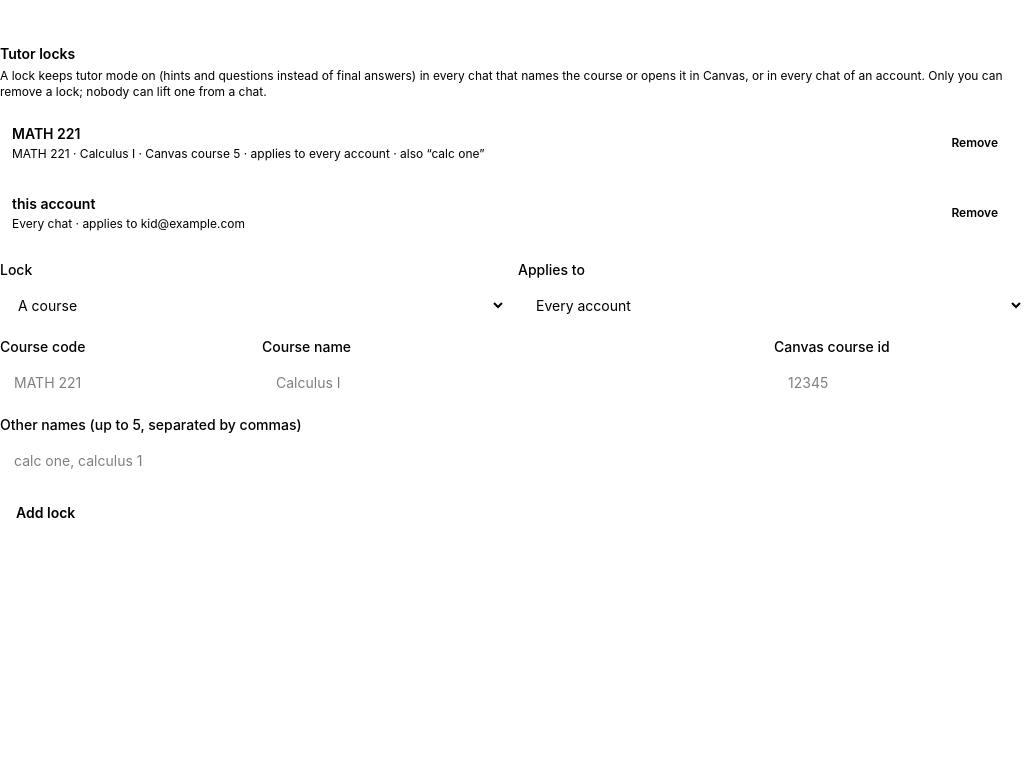
Test: TutorLocks › asks before removing a lock and removes only its own row
Click the button with aria-label "Remove the MATH 221 lock (every account)" at [975, 143], box left=937, top=125, right=1012, bottom=161
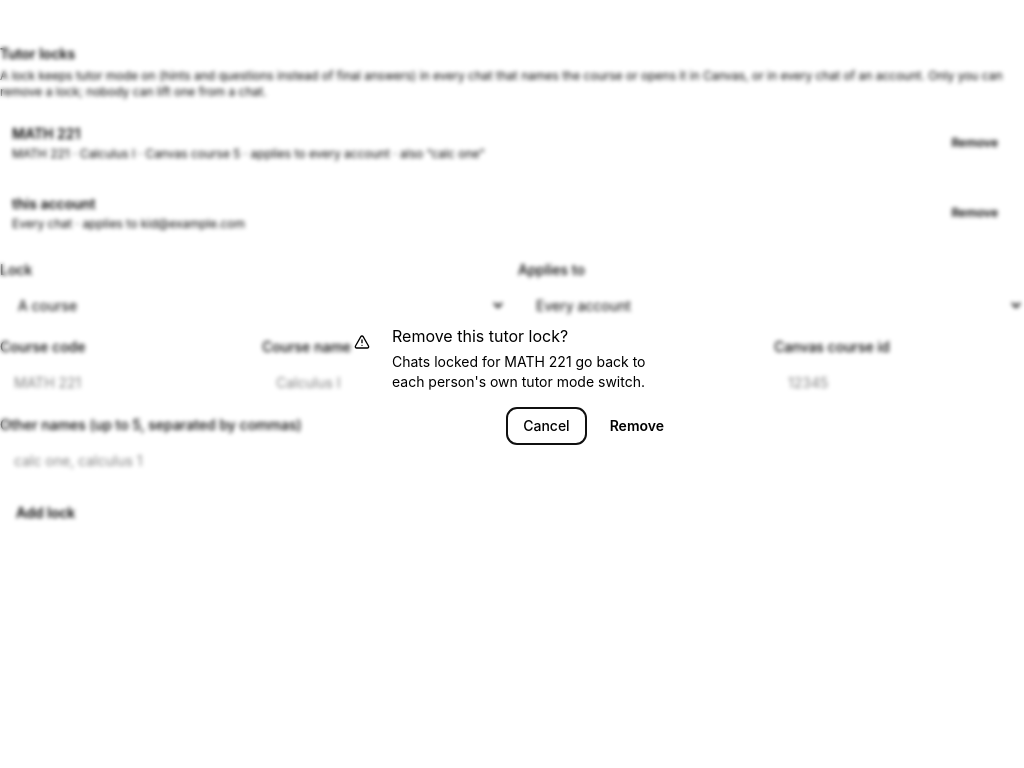
Result: the dialog shows "Chats locked for MATH 221 go back to each person's own tutor mode switch." at left=392, top=353, right=646, bottom=390
Click the button "Remove" at [637, 426], box left=594, top=408, right=680, bottom=444
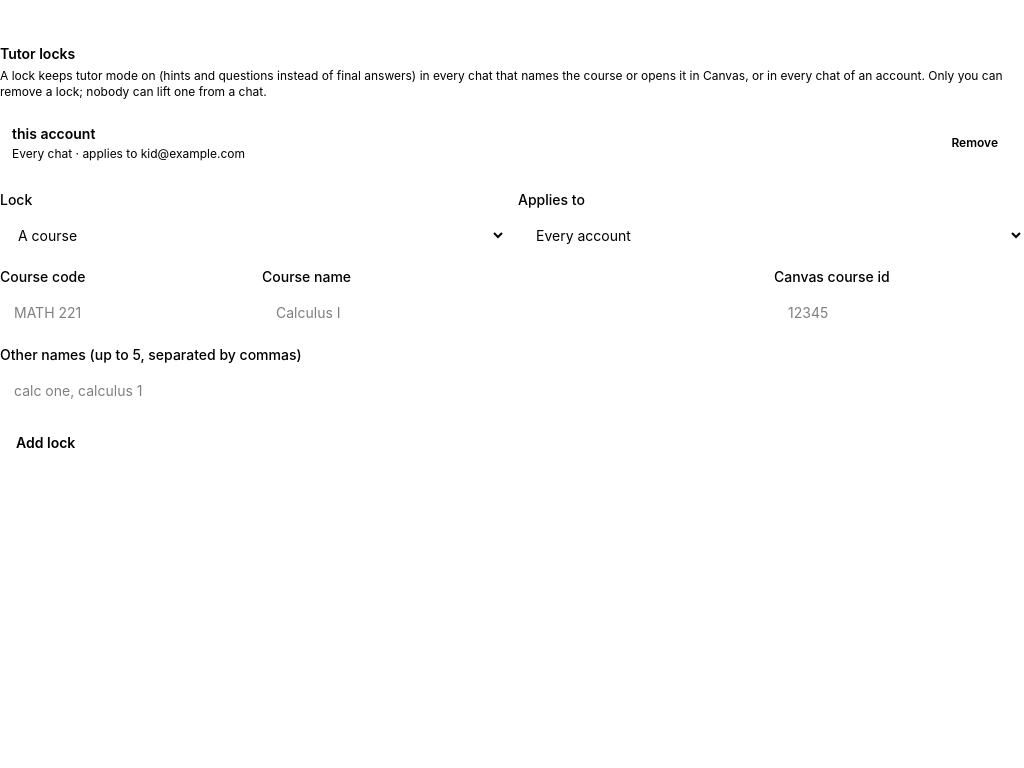
Expected: the text "this account" is shown, left=12, top=125, right=95, bottom=142
Result: the dialog is gone
Result: the number of list items is 1 at left=12, top=125, right=1012, bottom=161
